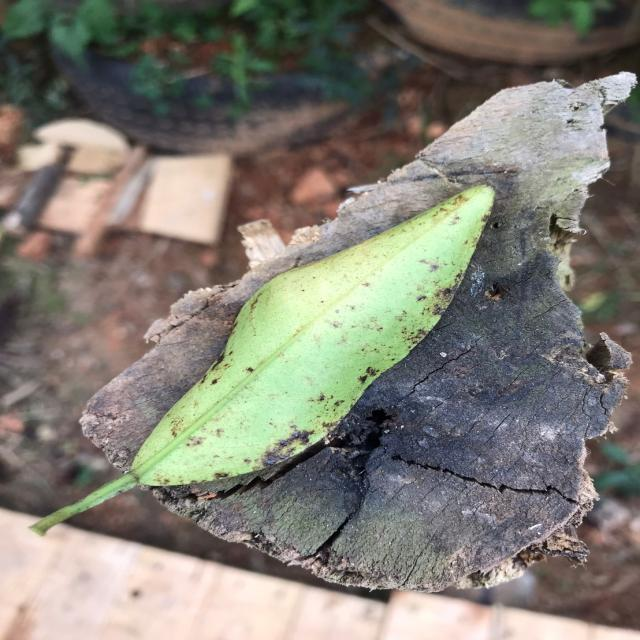melanose: (62, 176, 503, 526)
